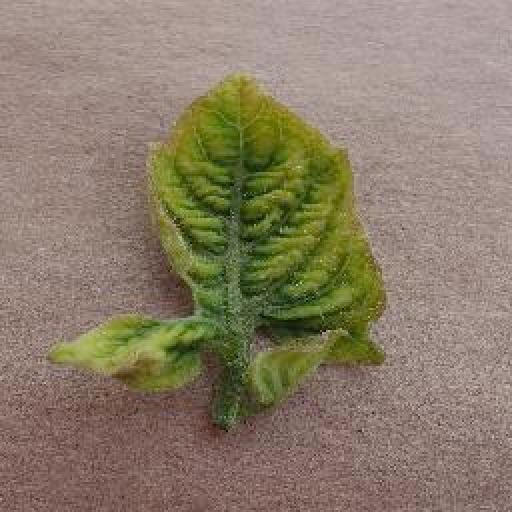disease_tomato: (51, 74, 392, 408)
